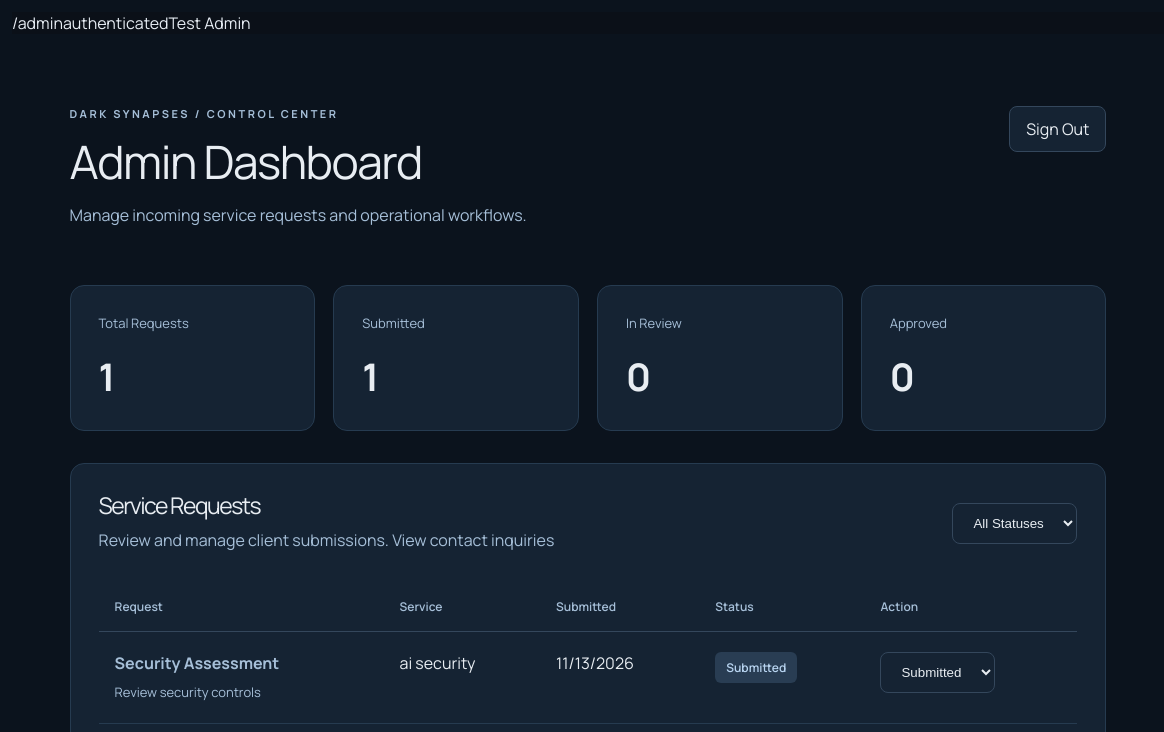
it: AdminDashboardPage integration › clears the session after successful logout
The width and height of the screenshot is (1164, 732).
Expected: the text "Security Assessment" is shown, 115,652 -> 279,674
Click the button "Sign Out". click: (1058,129)
box: 1009,106 -> 1106,152
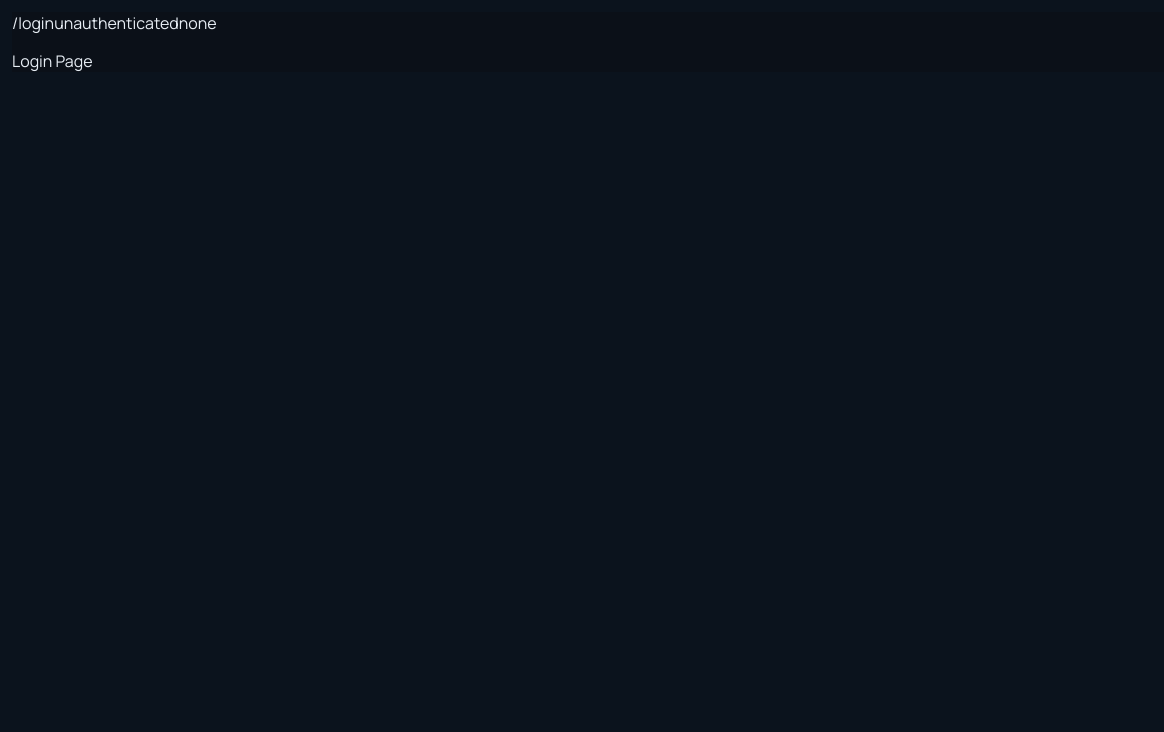
Now the text with test id "location" reads "/login", box 12,12 -> 54,34
Now the text with test id "status" reads "unauthenticated", box 54,12 -> 179,34
